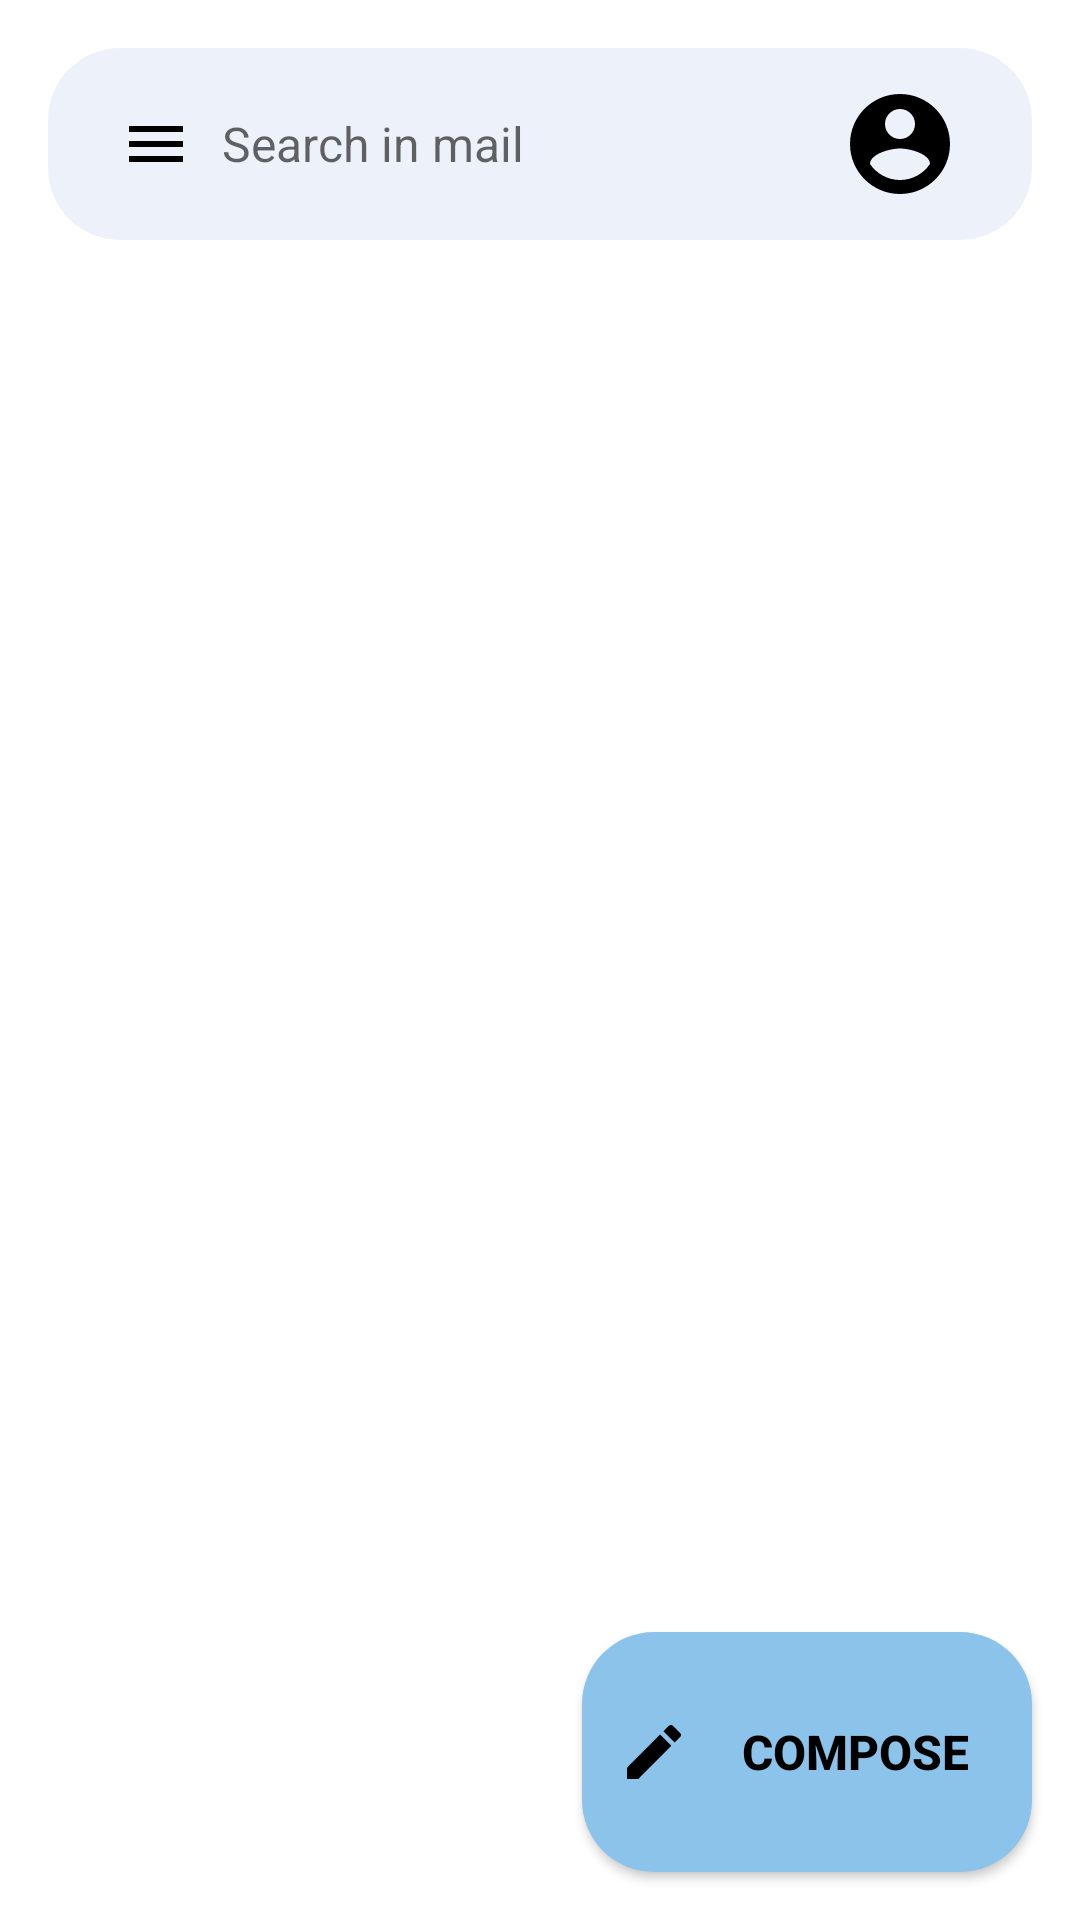

Icon bounding boxes for this 1080*1920 phone screenshot, format rect(x1, y1, x2, y2):
menu: rect(129, 126, 183, 162)
